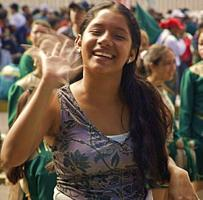person: (1, 3, 170, 200)
